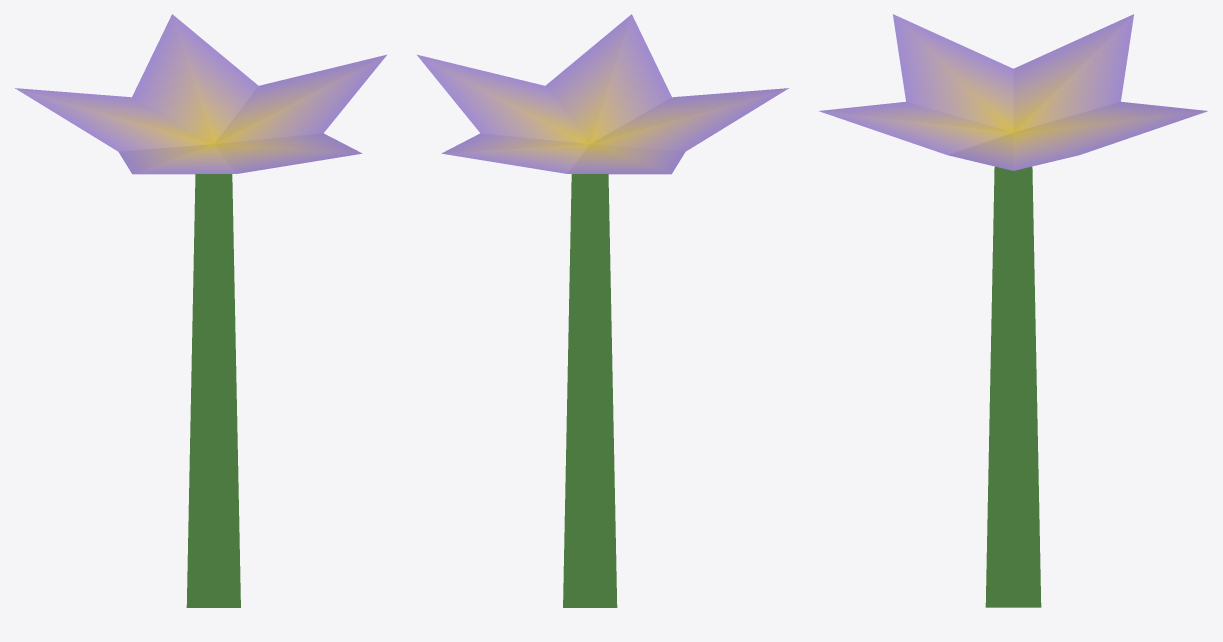
The model's file is flower_2.glb.
3 views of the same model, side by side, from view 1: azimuth 30°, elevation 25°; view 2: azimuth 150°, elevation 25°; view 3: azimuth 270°, elevation 25° (orthographic). The views are drawn at different scales.
Parts seen in each view (by area): view 1: flower_2; view 2: flower_2; view 3: flower_2.
Part boxes in pixels (bbox=[...]): flower_2: bbox=[15, 14, 386, 607]; flower_2: bbox=[417, 14, 788, 607]; flower_2: bbox=[819, 14, 1207, 607].
Size of the model in its own units: 0.2086 by 0.3284 by 0.2193.
